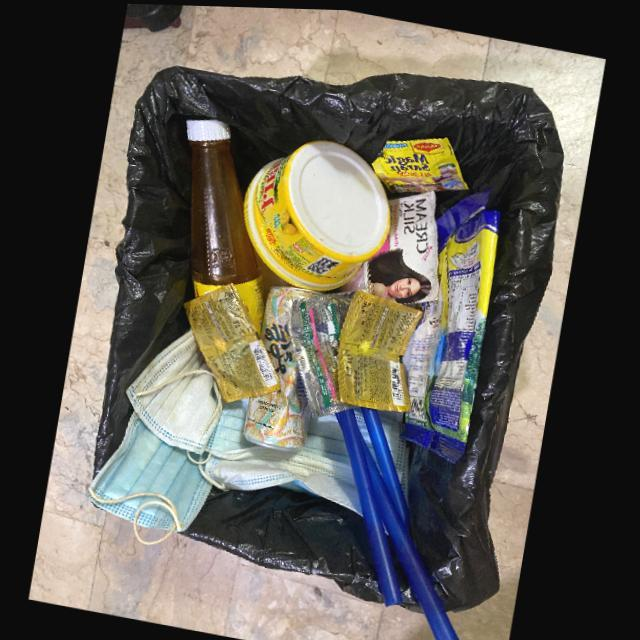glass: (187, 119, 265, 334)
metal: (244, 285, 327, 450)
plastic: (245, 139, 392, 291)
wrapper: (403, 187, 502, 463), (184, 282, 282, 402), (339, 288, 424, 410), (284, 289, 362, 418), (365, 188, 440, 302), (372, 135, 469, 191)
